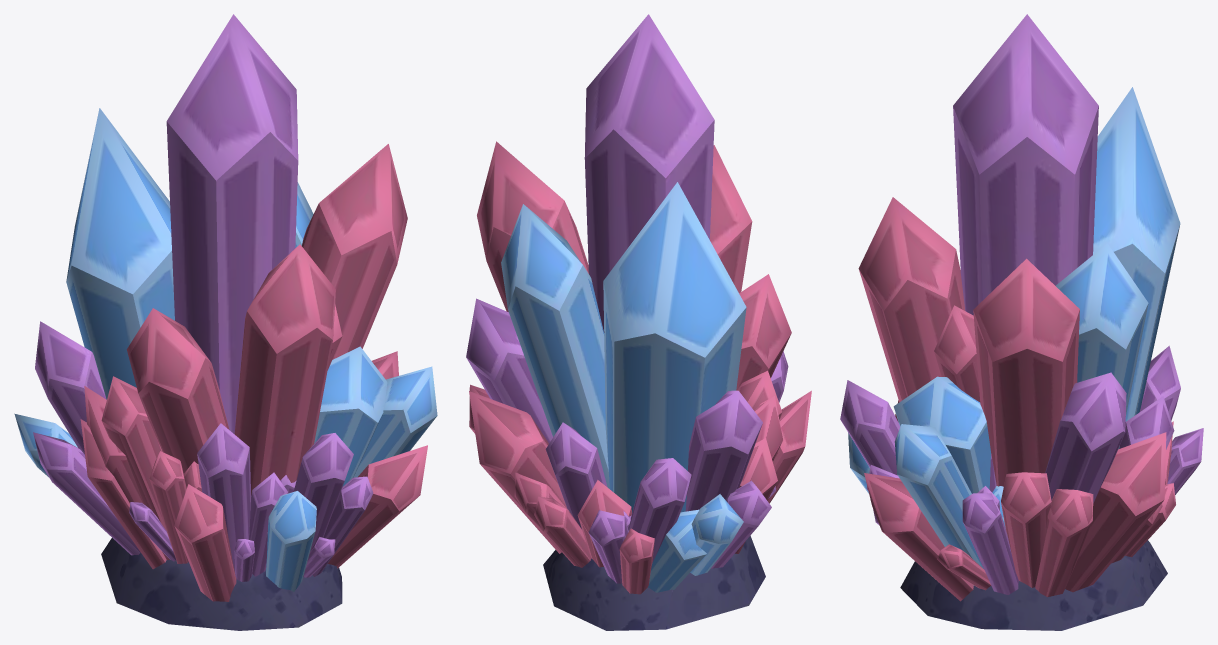
File: crystal-transformed.glb
The picture shows the model from 3 angles, left to right: view 1: azimuth 30°, elevation 25°; view 2: azimuth 150°, elevation 25°; view 3: azimuth 270°, elevation 25°; orthographic projection. The views are drawn at different scales.
Parts seen in each view (by area): view 1: PowerUP_Crystals_0, PowerUP_CrystalBase_0; view 2: PowerUP_Crystals_0, PowerUP_CrystalBase_0; view 3: PowerUP_Crystals_0, PowerUP_CrystalBase_0.
Part boxes in pixels (x1,y1,x2,y2): PowerUP_Crystals_0: (14, 14, 437, 601); PowerUP_CrystalBase_0: (101, 538, 342, 630); PowerUP_Crystals_0: (466, 14, 811, 594); PowerUP_CrystalBase_0: (543, 535, 765, 630); PowerUP_Crystals_0: (840, 14, 1203, 601); PowerUP_CrystalBase_0: (900, 540, 1167, 630).
Size of the model in its own units: 5.23 by 8.59 by 4.94.
2 materials, 2 textured.
